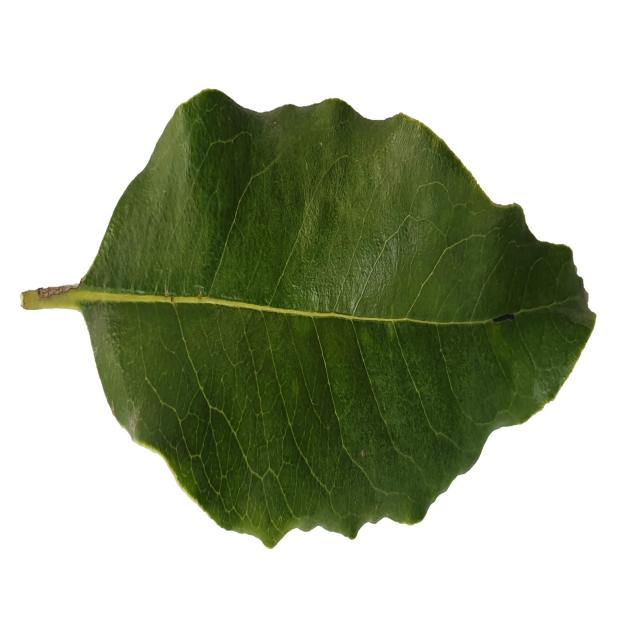Medicinal-Sandalwood: (18, 84, 598, 548)
